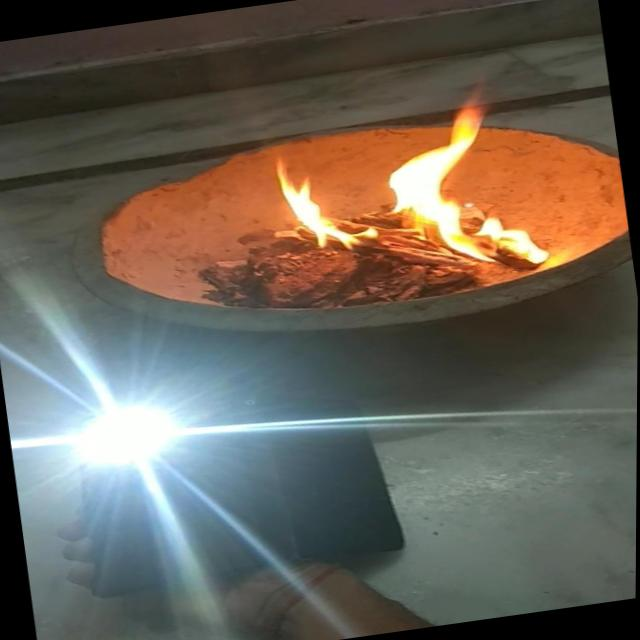fire: (252, 90, 561, 304)
